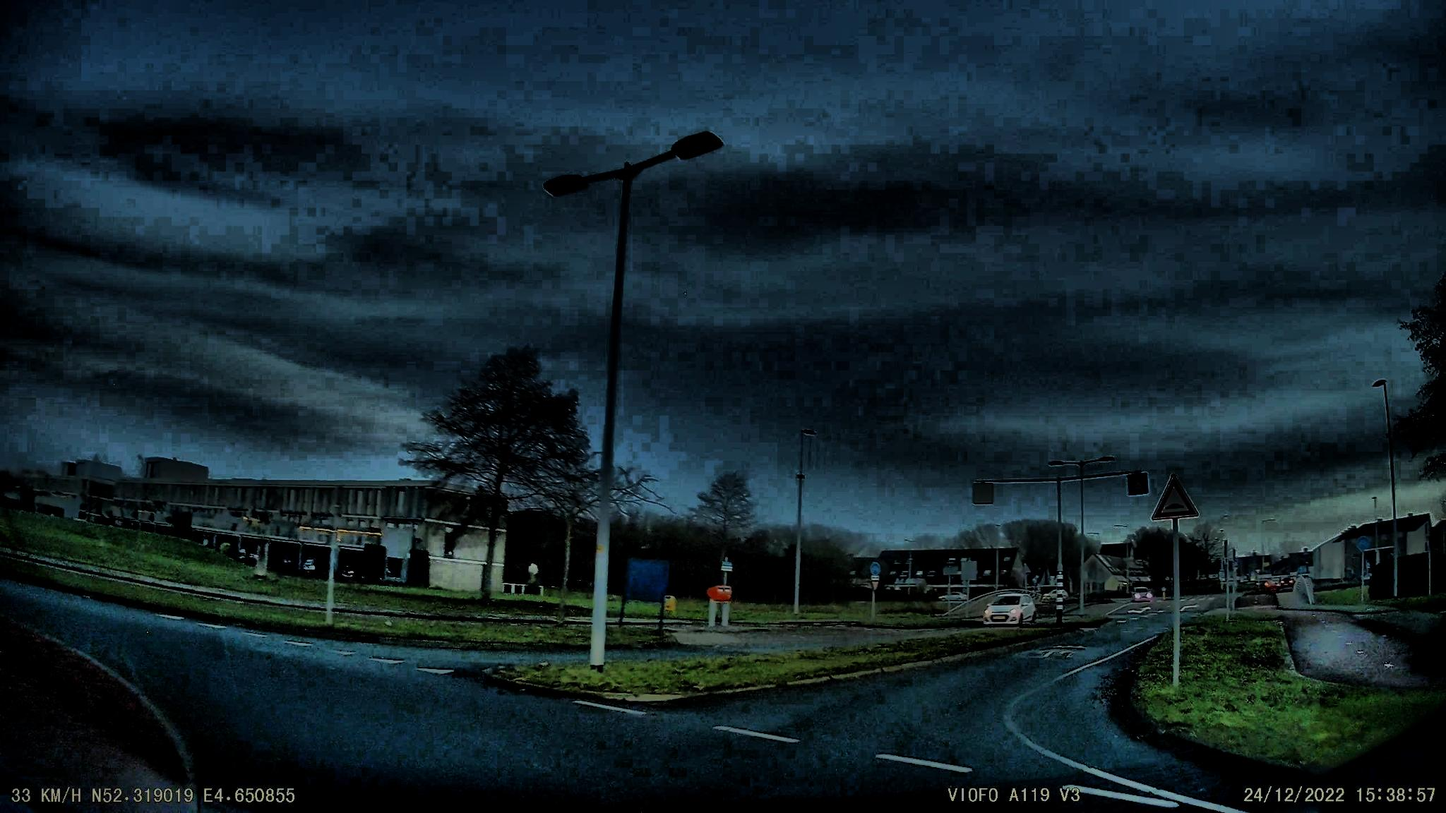Roads: (0, 579, 1446, 813)
